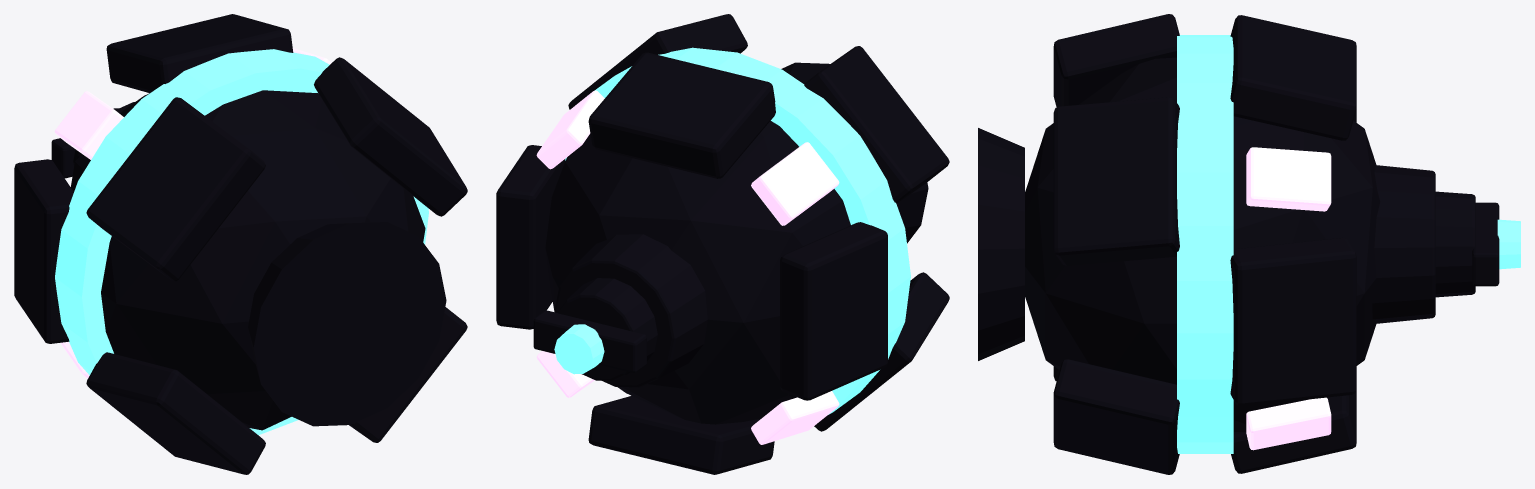
Rendered from CyberPlasmaGrenade.fbx.
3 renders of one model, left to right at view 1: azimuth 30°, elevation 25°; view 2: azimuth 150°, elevation 25°; view 3: azimuth 270°, elevation 25°, orthographic. The views are drawn at different scales.
Parts seen in each view (by area): view 1: CPG_shell armor plates, CPG_faceted shell core, CPG_base stabilizer ring, CPG_cyan equator glow band, CPG_magenta core vents, CPG_arming cap assembly; view 2: CPG_shell armor plates, CPG_faceted shell core, CPG_arming cap assembly, CPG_cyan equator glow band, CPG_magenta core vents, CPG_cyan arming button, CPG_base stabilizer ring; view 3: CPG_shell armor plates, CPG_faceted shell core, CPG_cyan equator glow band, CPG_arming cap assembly, CPG_base stabilizer ring, CPG_magenta core vents, CPG_cyan arming button.
Boxes of the visible parts, bbox=[...] form: CPG_shell armor plates: bbox=[14, 14, 467, 474]; CPG_faceted shell core: bbox=[70, 90, 425, 430]; CPG_base stabilizer ring: bbox=[248, 222, 446, 426]; CPG_cyan equator glow band: bbox=[55, 49, 428, 435]; CPG_magenta core vents: bbox=[54, 48, 331, 378]; CPG_arming cap assembly: bbox=[51, 102, 134, 178]; CPG_shell armor plates: bbox=[496, 14, 949, 474]; CPG_faceted shell core: bbox=[545, 121, 899, 424]; CPG_arming cap assembly: bbox=[533, 234, 707, 387]; CPG_cyan equator glow band: bbox=[565, 47, 910, 414]; CPG_magenta core vents: bbox=[536, 90, 839, 444]; CPG_cyan arming button: bbox=[554, 324, 604, 374]; CPG_base stabilizer ring: bbox=[781, 62, 928, 243]; CPG_shell armor plates: bbox=[1053, 14, 1356, 474]; CPG_faceted shell core: bbox=[1025, 57, 1380, 431]; CPG_cyan equator glow band: bbox=[1177, 35, 1233, 453]; CPG_arming cap assembly: bbox=[1372, 165, 1499, 323]; CPG_base stabilizer ring: bbox=[978, 128, 1024, 360]; CPG_magenta core vents: bbox=[1246, 147, 1331, 450]; CPG_cyan arming button: bbox=[1497, 219, 1520, 269].
Bounding box in the file's own units: 26.17 × 26.17 × 32.5.
